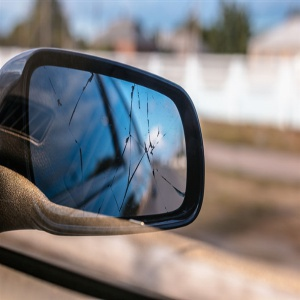door: (103, 100, 281, 259)
